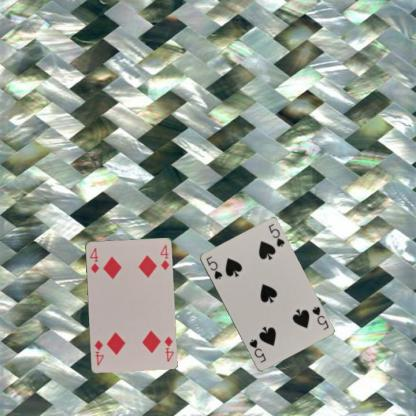4d: (87, 245, 100, 274), (162, 334, 174, 363)
5s: (309, 304, 330, 331), (204, 254, 224, 281)
